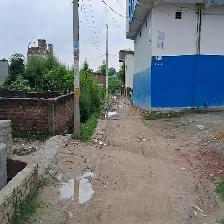Drain: (66, 91, 112, 138)
Road: (13, 94, 214, 223)
